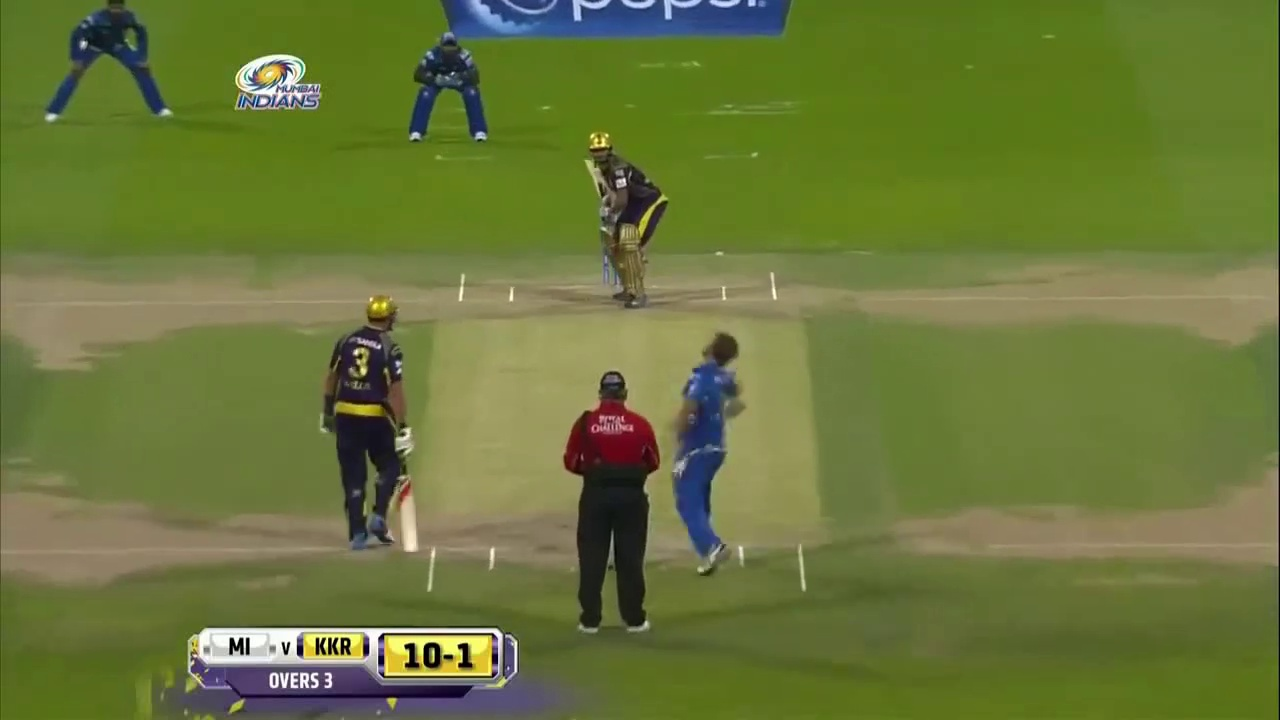bat: (396, 475, 419, 552), (584, 160, 606, 201)
